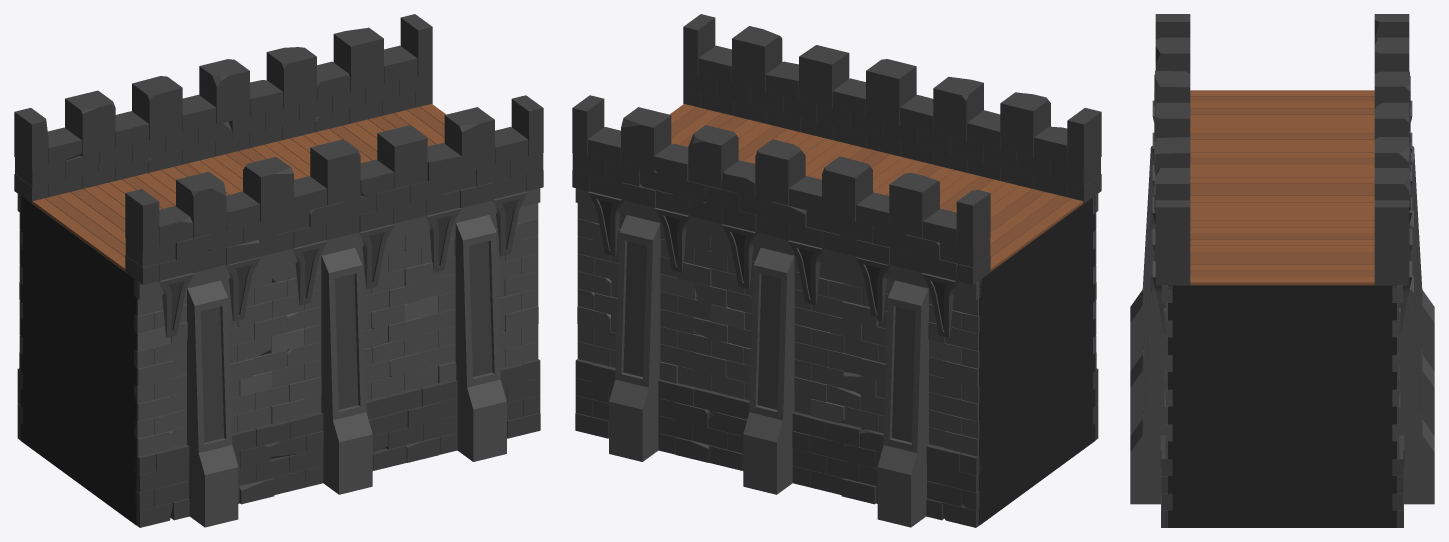
The model's file is Wall_05.glb.
3 views of the same model, side by side, from view 1: azimuth 30°, elevation 25°; view 2: azimuth 150°, elevation 25°; view 3: azimuth 270°, elevation 25° (orthographic).
Parts seen in each view (by area): view 1: Wall_05_LOD0; view 2: Wall_05_LOD0; view 3: Wall_05_LOD0.
Boxes of the visible parts, x1=… form: Wall_05_LOD0: x1=14, y1=14, x2=543, y2=527; Wall_05_LOD0: x1=572, y1=14, x2=1101, y2=527; Wall_05_LOD0: x1=1130, y1=14, x2=1434, y2=527.
Size of what is drawn, in the model's own units: 7.7 by 5.98 by 5.12.
Materials: 1 (1 with a texture image).
